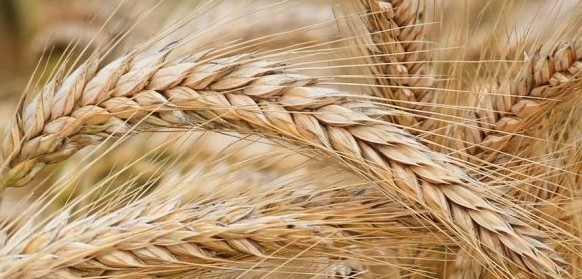Healthy Wheat: (288, 80, 542, 263)
